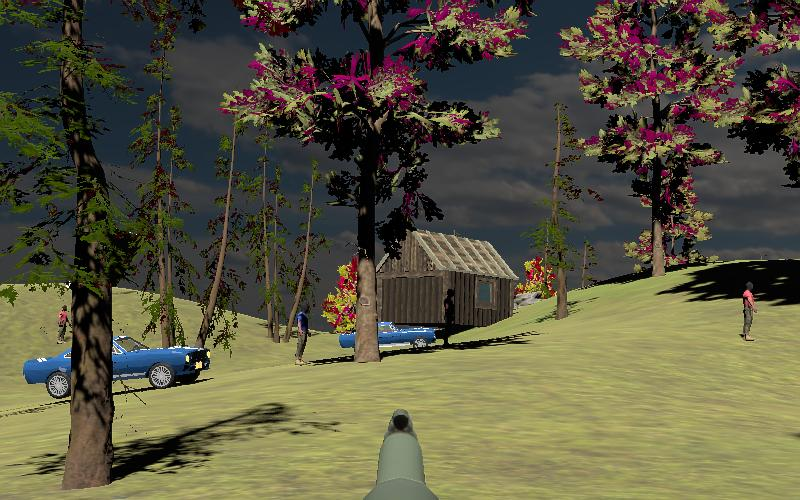House: (374, 230, 519, 330)
Human: (294, 302, 311, 366), (742, 281, 758, 342)
car: (22, 332, 212, 402), (337, 319, 442, 355)
